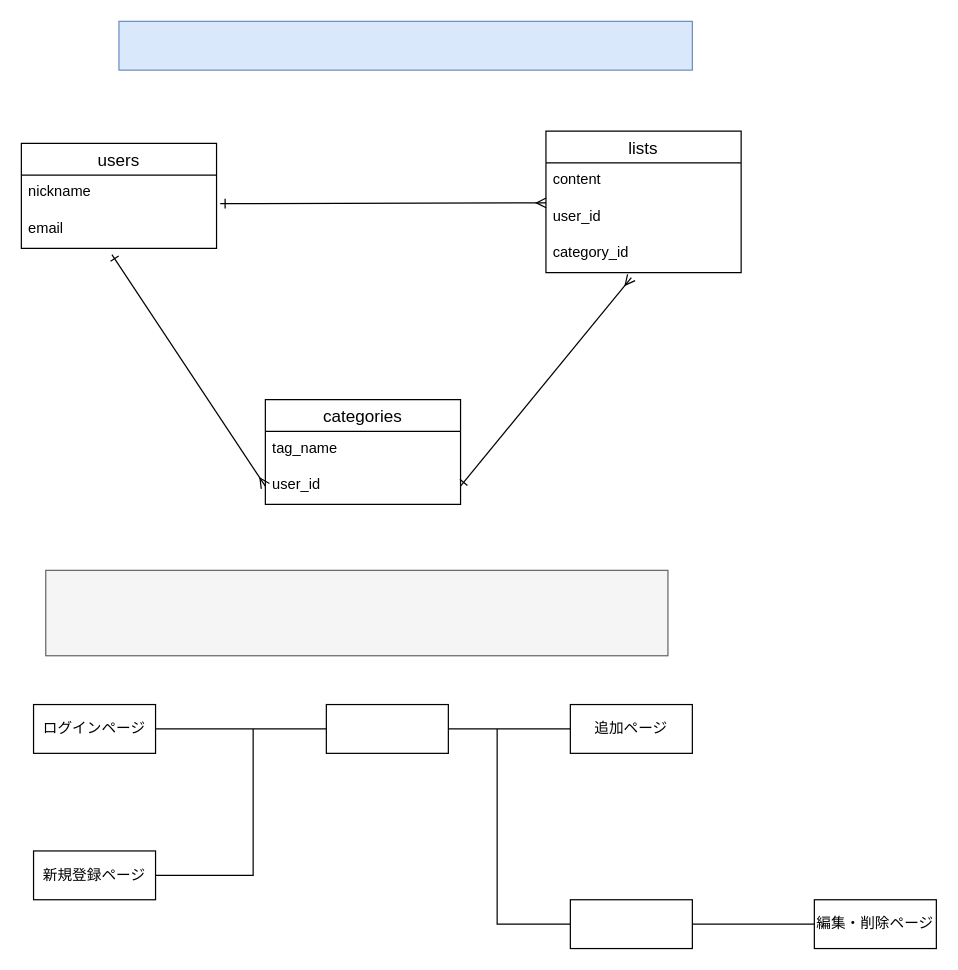
This 958x970 diagram has some shape labels left out. Each missing label, with the centre of its shape:
ER図: the point at 405,45
一覧表示ページ: the point at 386,728
画面遷移図: the point at 356,612
詳細ページ: the point at 630,924
